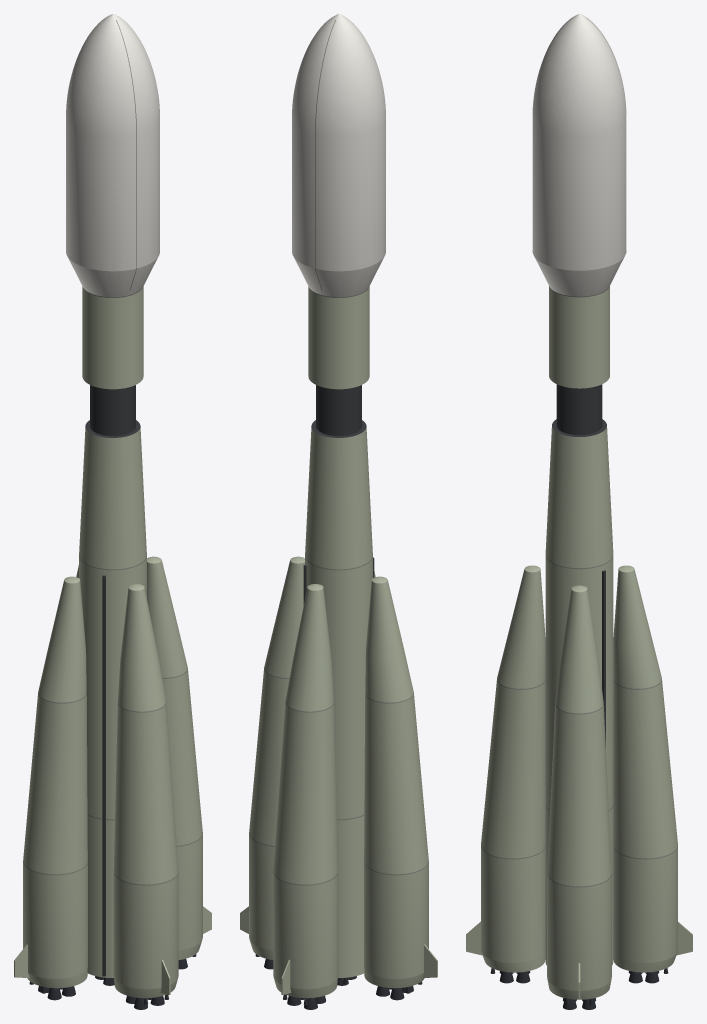
Rendered from soyuz.glb.
The picture shows the model from 3 angles, left to right: view 1: azimuth 30°, elevation 25°; view 2: azimuth 150°, elevation 25°; view 3: azimuth 270°, elevation 25°; orthographic projection.
Parts seen in each view (by area): view 1: soyuz; view 2: soyuz; view 3: soyuz.
Part boxes in pixels (x1,y1,x2,y2): soyuz: [14, 14, 211, 1009]; soyuz: [240, 14, 437, 1009]; soyuz: [466, 14, 692, 1009].
Size of the model in its own units: 9.9 by 46.3 by 9.9.
1 material, 1 textured.
